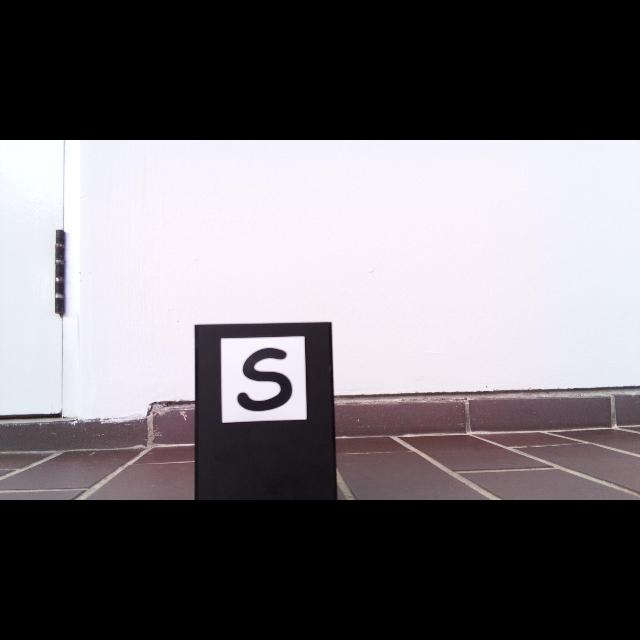S: (237, 348, 292, 411)
